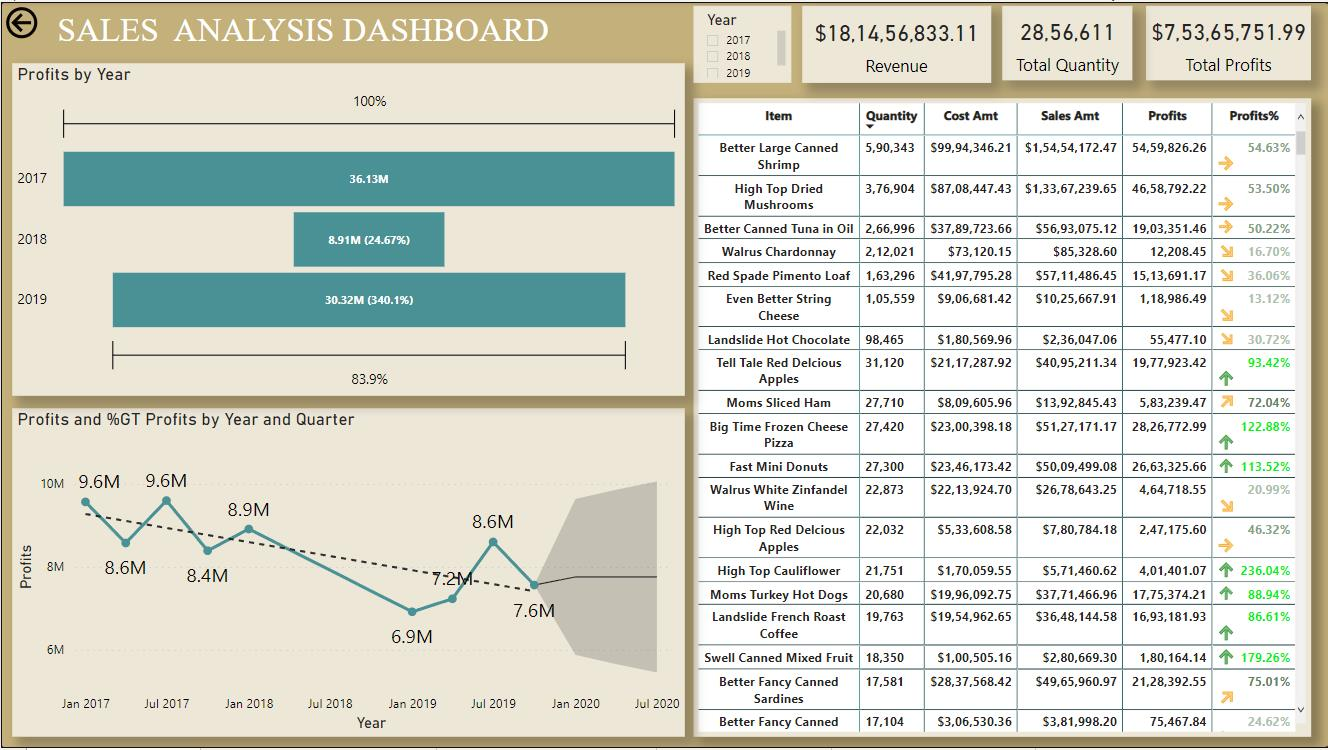

Layout of this report page (visuals, bound fields, positions):
{"tool":"powerbi","page":{"name":"Sales & Profit Info ","canvas":[1280,720],"ordinal":0},"visuals":[{"type":"actionButton","box":[0,0,100,40],"z":0},{"type":"pivotTable","fields":{"Values":["Imp Measures.Quantity","Sum(Sales_Details.Sales Price)","Imp Measures.Total Sales","Imp Measures.Profits","Imp Measures.Profits%"],"Rows":["Sales_Details.Item"]},"box":[676.6,89.2,587.3,619.9],"z":1000},{"type":"textbox","box":[49.4,3.6,554.8,55.5],"z":2000},{"type":"card","fields":{"Values":["Imp Measures.Total Sales"]},"box":[890.1,3.6,117,74.8],"z":3000},{"type":"card","fields":{"Values":["Sum(Sales_Details.Sales Margin Amount)"]},"box":[1136.1,3.6,127.8,74.8],"z":4000},{"type":"card","fields":{"Values":["Imp Measures.Quantity"]},"box":[1015.5,3.6,111,74.8],"z":5000},{"type":"lineChart","fields":{"Category":["Date.Date.Variation.Date Hierarchy.Year","Date.Date.Variation.Date Hierarchy.Quarter","Date.Date.Variation.Date Hierarchy.Month"],"Y":["Imp Measures.Sales"]},"box":[10.9,392,648.8,317.2],"z":6000},{"type":"funnel","fields":{"Category":["Date.Date.Variation.Date Hierarchy.Year","Date.Date.Variation.Date Hierarchy.Quarter","Date.Date.Variation.Date Hierarchy.Month"],"Y":["Imp Measures.Profits"]},"box":[10.9,69.9,648.8,309.9],"z":7000},{"type":"slicer","fields":{"Values":["Date.Date.Variation.Date Hierarchy.Year","Date.Date.Variation.Date Hierarchy.Quarter"]},"box":[676.6,0,202.6,79.6],"z":8000}]}

Visuals, with their boxes in screenshot pixels (x1, y1, x2, y2), scaled from the page's 1280x720 canvas onto the 1328x750 screenshot:
actionButton: {"x1": 0, "y1": 0, "x2": 104, "y2": 42}
pivotTable - Imp Measures.Quantity x Sum(Sales_Details.Sales Price): {"x1": 702, "y1": 93, "x2": 1311, "y2": 739}
textbox: {"x1": 51, "y1": 4, "x2": 627, "y2": 62}
card - Imp Measures.Total Sales: {"x1": 923, "y1": 4, "x2": 1045, "y2": 82}
card - Sum(Sales_Details.Sales Margin Amount): {"x1": 1179, "y1": 4, "x2": 1311, "y2": 82}
card - Imp Measures.Quantity: {"x1": 1054, "y1": 4, "x2": 1169, "y2": 82}
lineChart - Date.Date.Variation.Date Hierarchy.Year x Date.Date.Variation.Date Hierarchy.Quarter: {"x1": 11, "y1": 408, "x2": 684, "y2": 739}
funnel - Date.Date.Variation.Date Hierarchy.Year x Date.Date.Variation.Date Hierarchy.Quarter: {"x1": 11, "y1": 73, "x2": 684, "y2": 396}
slicer - Date.Date.Variation.Date Hierarchy.Year x Date.Date.Variation.Date Hierarchy.Quarter: {"x1": 702, "y1": 0, "x2": 912, "y2": 83}
